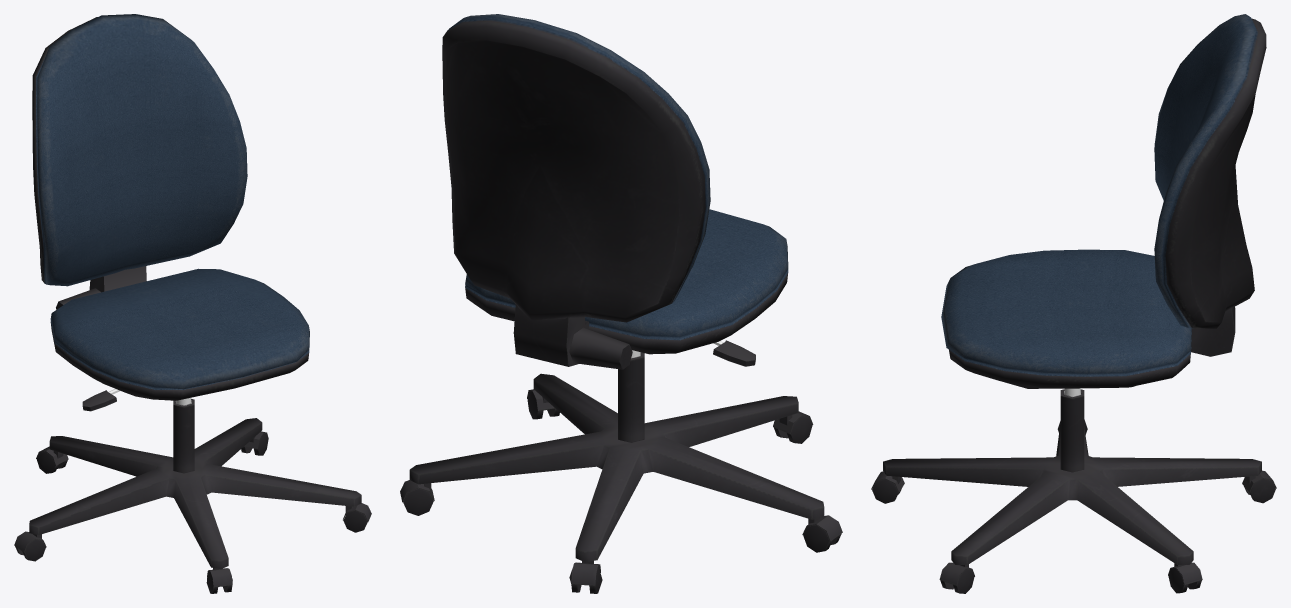
The model's file is office_chair_game_model_download.glb.
The picture shows the model from 3 angles, left to right: view 1: azimuth 30°, elevation 25°; view 2: azimuth 150°, elevation 25°; view 3: azimuth 270°, elevation 25°; orthographic projection. The views are drawn at different scales.
Parts seen in each view (by area): view 1: Cylinder001_M_Office_Chair_0; view 2: Cylinder001_M_Office_Chair_0; view 3: Cylinder001_M_Office_Chair_0.
Part boxes in pixels (x1,y1,x2,y2): Cylinder001_M_Office_Chair_0: [14, 14, 371, 593]; Cylinder001_M_Office_Chair_0: [400, 14, 842, 593]; Cylinder001_M_Office_Chair_0: [871, 14, 1276, 593].
Size of the model in its own units: 0.7089 by 1 by 0.7441.
1 material, 1 textured.
